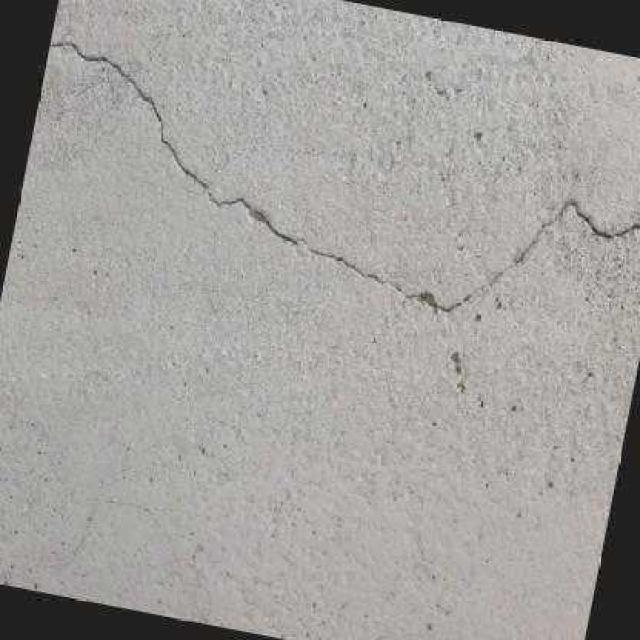D00: (47, 37, 640, 315)
